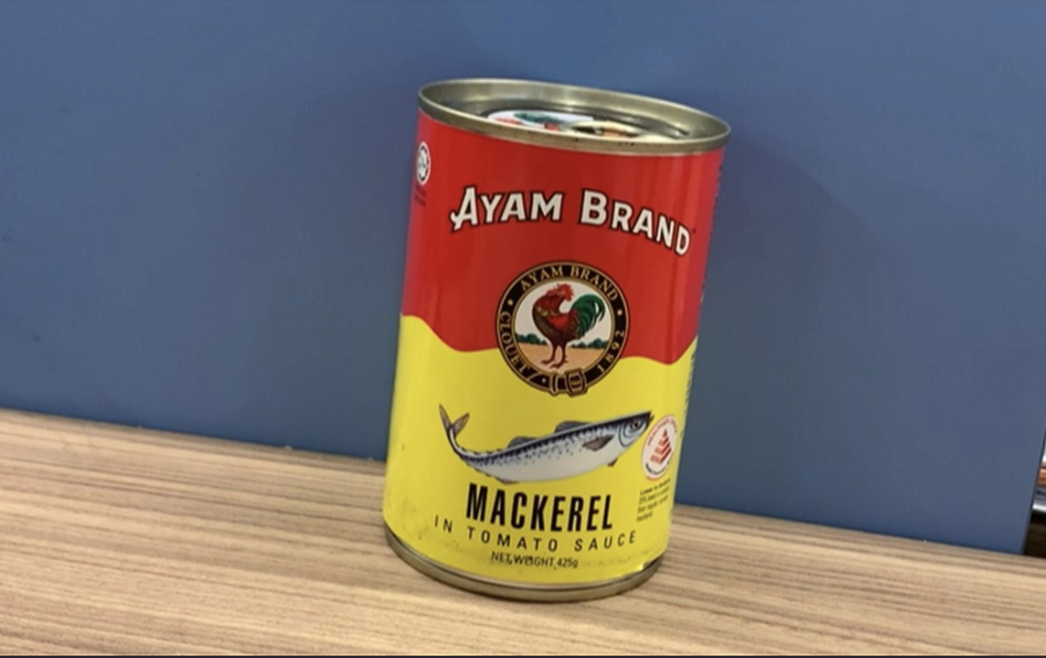sardines_450g: (411, 125, 671, 572)
